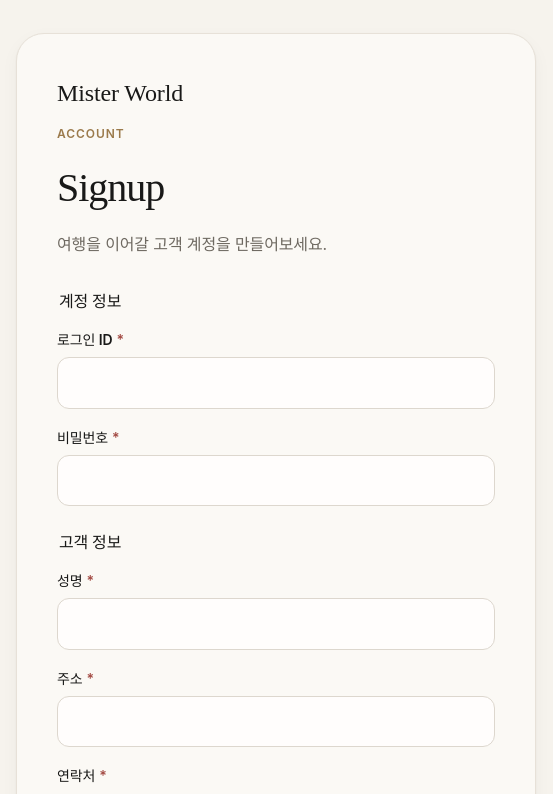
SignupPage › requires all five fields without inventing format or password constraints
This screenshot has width=553, height=794.
In the field labelled "로그인 ID *": (276, 383) [57,357,495,409], type "customer-01"
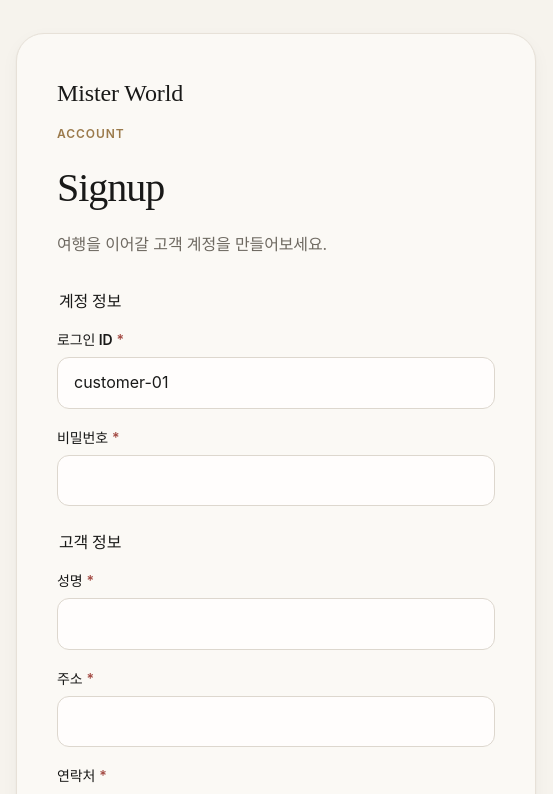
In the password field labelled "비밀번호 *": (276, 480) [57,455,495,506], type "secret-input"
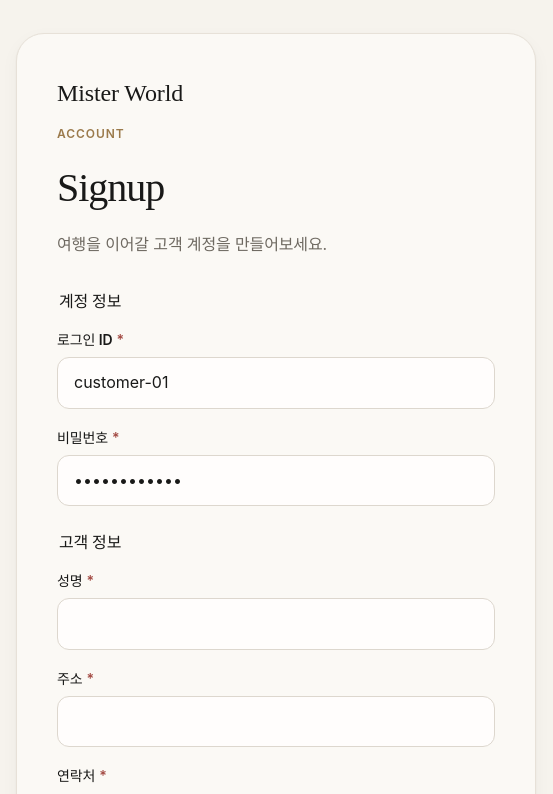
In the field labelled "성명 *": (276, 624) [57,598,495,650], type "Test Customer"
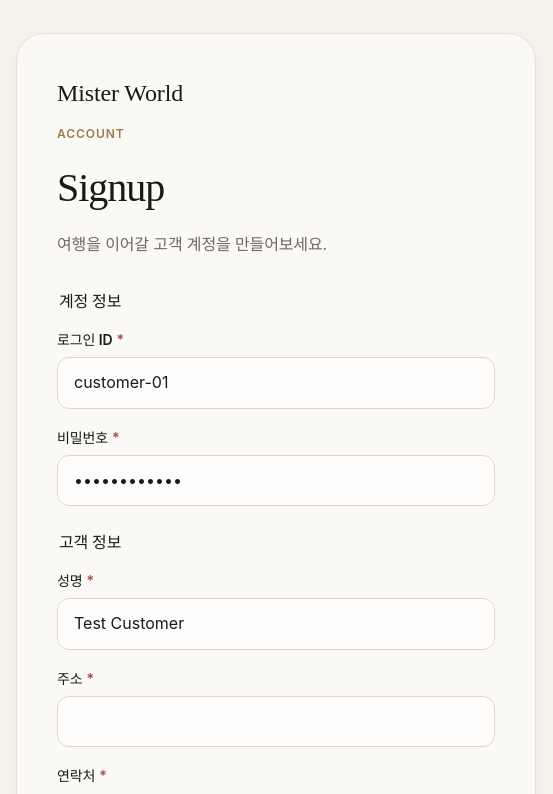
In the field labelled "주소 *": (276, 722) [57,696,495,748], type "Seoul address"
(page scrolled)
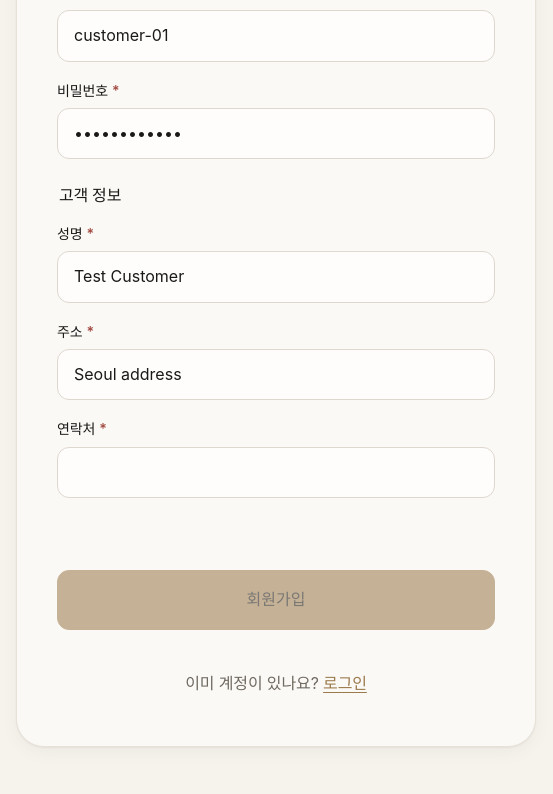
In the field labelled "연락처 *": (276, 472) [57,447,495,498], type "010-0000-0000"
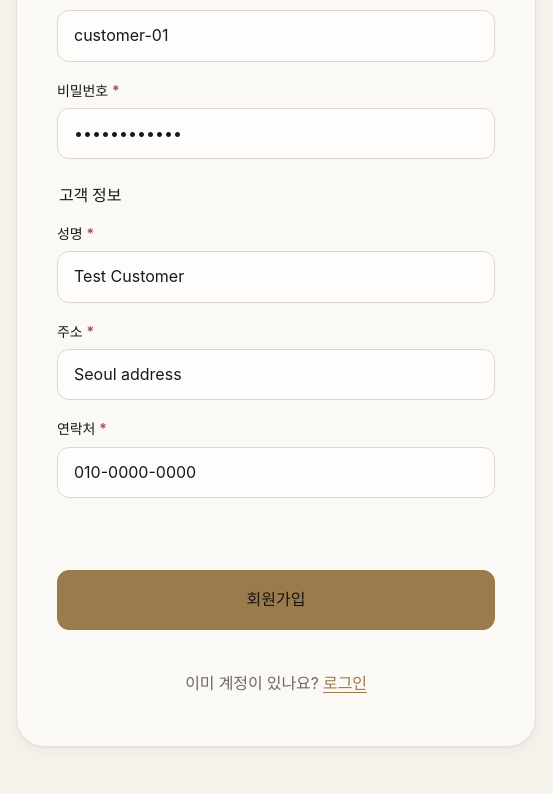
Expected: the button "회원가입" is enabled, [57,570,495,630]
